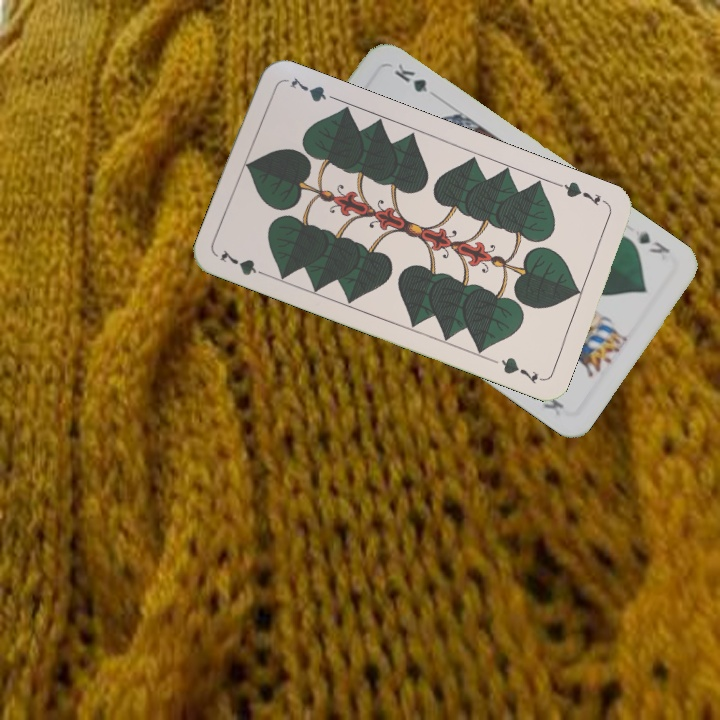G7: (216, 245, 272, 280), (553, 177, 603, 209)
GK: (634, 226, 673, 257)
